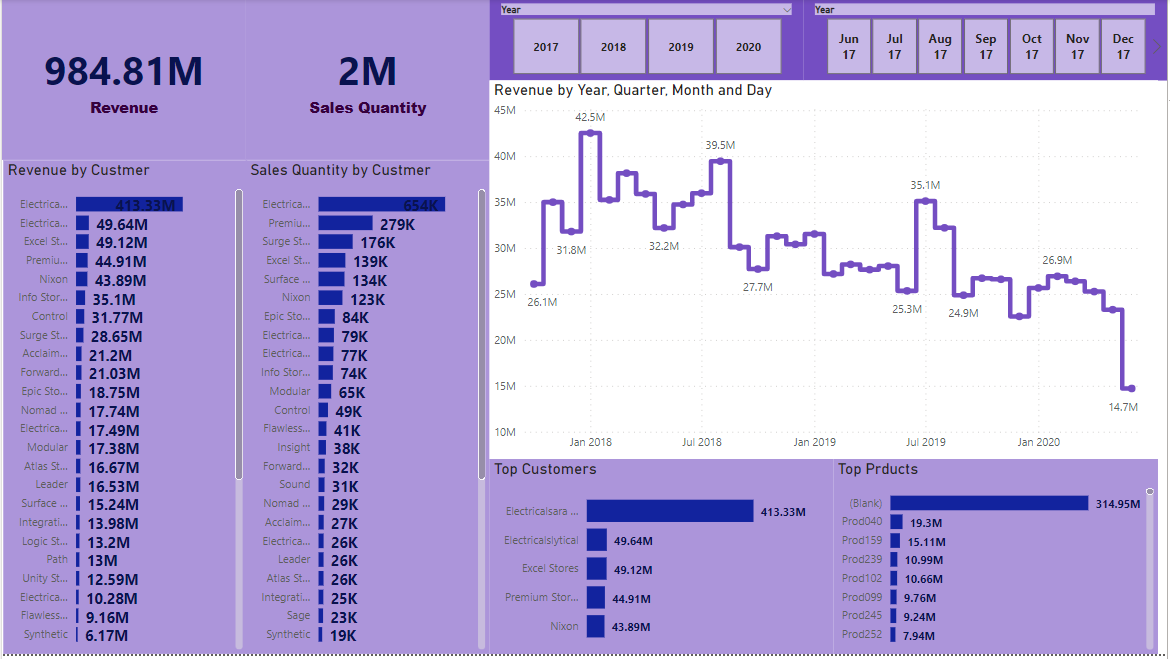

The dashboard page shown, as its layout file describes it:
{"tool":"powerbi","page":{"name":"Page 1","canvas":[1280,720],"ordinal":0},"visuals":[{"type":"card","fields":{"Values":["base measures.Revenue"]},"box":[0,0,267.8,177.2],"z":0},{"type":"card","fields":{"Values":["base measures.Sales Quantity"]},"box":[267.8,0,267.8,177.2],"z":1},{"type":"barChart","title":"Revenue by Custmer","fields":{"Y":["base measures.Revenue"],"Category":["sales customers.custmer_name"]},"box":[1.4,177.2,267.8,542.5],"z":2},{"type":"barChart","title":"Sales Quantity by Custmer","fields":{"Y":["base measures.Sales Quantity"],"Category":["sales customers.custmer_name"]},"box":[267.8,177.2,267.8,542.5],"z":3},{"type":"slicer","fields":{"Values":["sales date.year"]},"box":[535.6,0,344.7,89.3],"z":4},{"type":"slicer","fields":{"Values":["sales date.cy_date"]},"box":[880.3,0,399.7,89.3],"z":5},{"type":"barChart","title":"Top Customers","fields":{"Y":["base measures.Revenue"],"Category":["sales customers.custmer_name"]},"box":[535.6,505.4,377.7,214.2],"z":6},{"type":"barChart","title":"Top Prducts","fields":{"Y":["base measures.Revenue"],"Category":["sales products.product_code"]},"box":[913.3,505.4,357.1,214.2],"z":7},{"type":"lineChart","fields":{"Y":["base measures.Revenue"],"Category":["sales date.cy_date.Variation.Date Hierarchy.Year","sales date.cy_date.Variation.Date Hierarchy.Quarter","sales date.cy_date.Variation.Date Hierarchy.Month","sales date.cy_date.Variation.Date Hierarchy.Day"]},"box":[535.6,89.3,734.8,416.1],"z":8}]}

Visuals, with their boxes in screenshot pixels (x1, y1, x2, y2), scaled from the page's 1280x720 canvas onto the 1170x659 screenshot:
card - base measures.Revenue: [0,0,245,162]
card - base measures.Sales Quantity: [245,0,490,162]
"Revenue by Custmer" barChart: [1,162,246,658]
"Sales Quantity by Custmer" barChart: [245,162,490,658]
slicer - sales date.year: [490,0,805,82]
slicer - sales date.cy_date: [805,0,1169,82]
"Top Customers" barChart: [490,463,835,658]
"Top Prducts" barChart: [835,463,1161,658]
lineChart - base measures.Revenue x sales date.cy_date.Variation.Date Hierarchy.Year: [490,82,1161,463]
